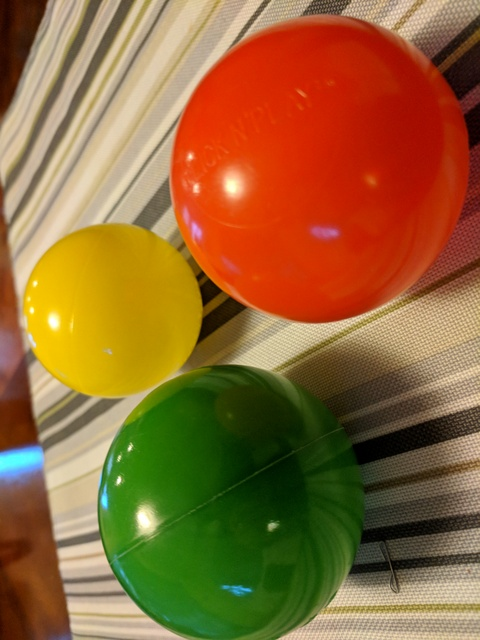Ball: (102, 363, 362, 638)
